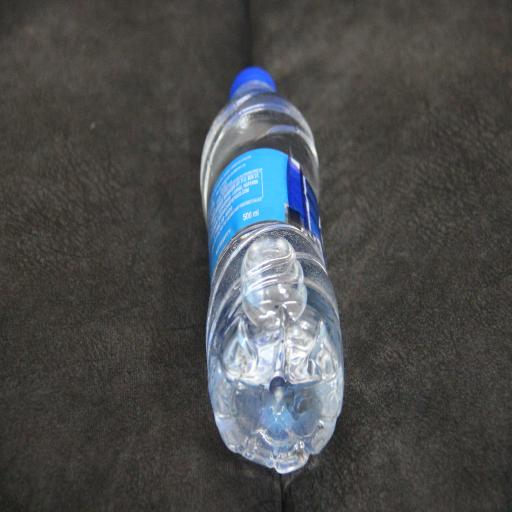Aquafina: (194, 61, 352, 482)
